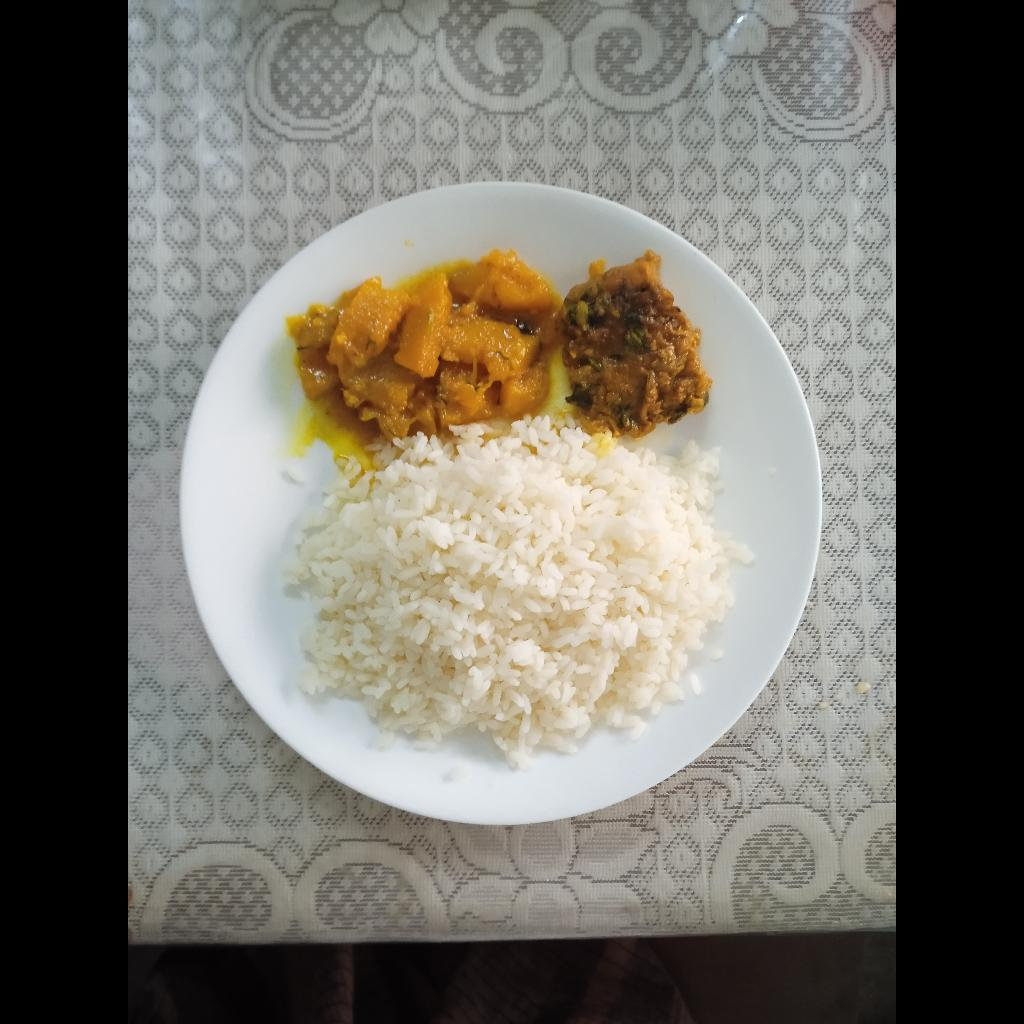fish: (556, 250, 715, 440)
kumra-vaji: (288, 250, 559, 439)
rice: (280, 415, 755, 770)
